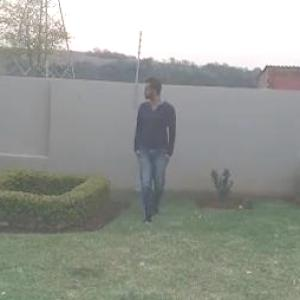follow: (124, 63, 180, 255)
